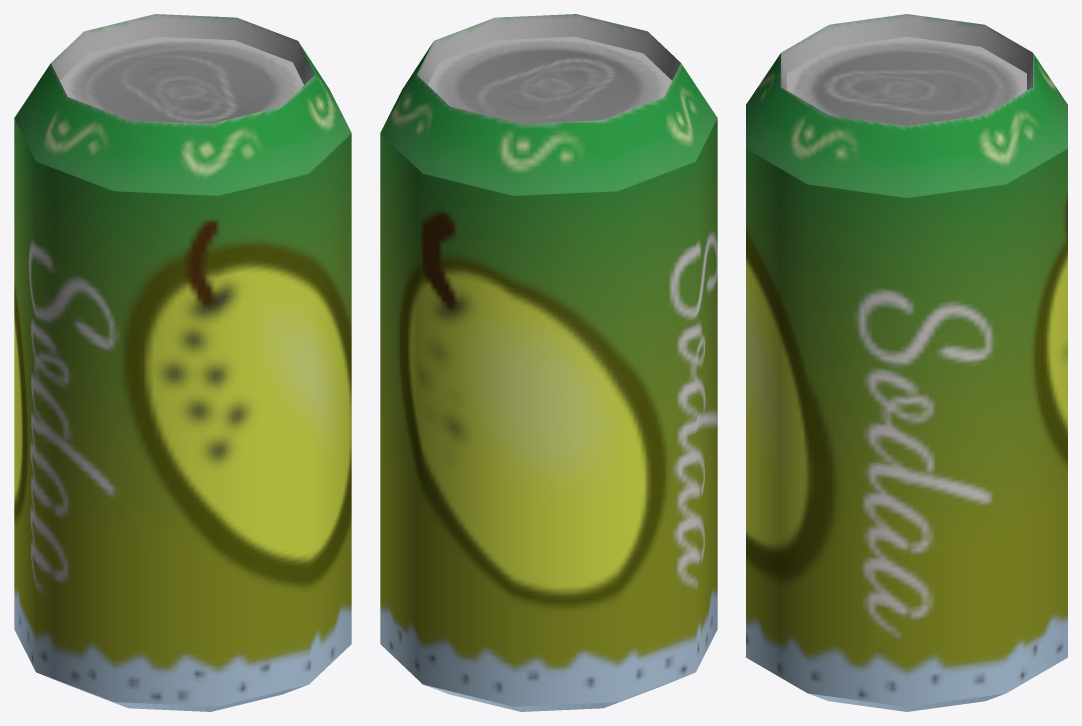
File: Lemon_Soda.fbx
The picture shows the model from 3 angles, left to right: view 1: azimuth 30°, elevation 25°; view 2: azimuth 150°, elevation 25°; view 3: azimuth 270°, elevation 25°; orthographic projection.
Visible parts, largest first — view 1: Lemon_Soda; view 2: Lemon_Soda; view 3: Lemon_Soda.
Boxes of the visible parts, x1,y1,x2,y2 form: Lemon_Soda: [14, 14, 351, 711]; Lemon_Soda: [380, 14, 717, 711]; Lemon_Soda: [746, 14, 1067, 711].
Size of the model in its own units: 7.49 by 14.31 by 7.13.
